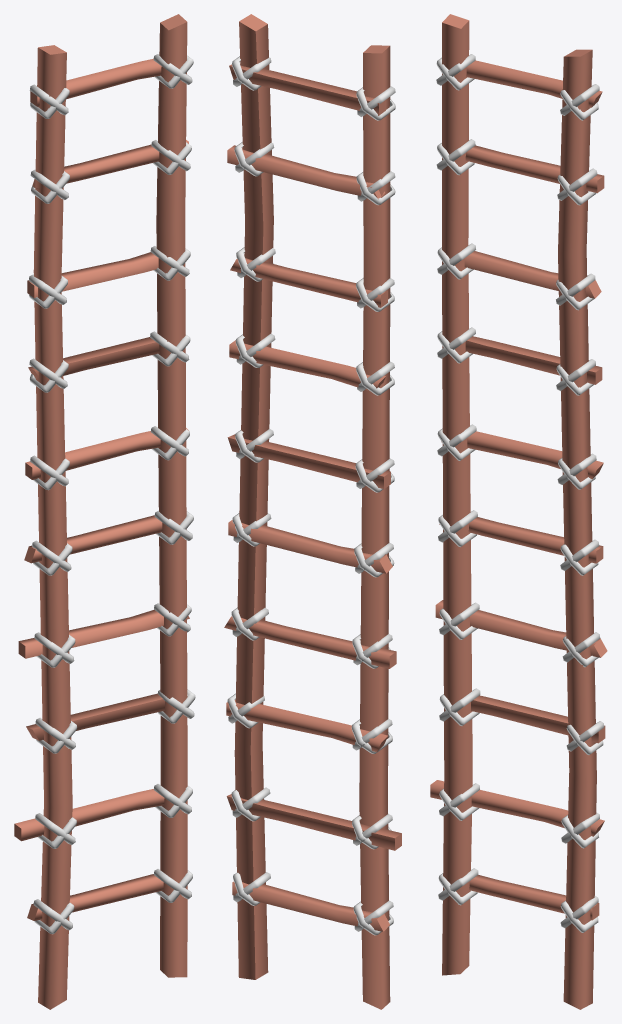
The model's file is ladder.fbx.
3 views of the same model, side by side, from view 1: azimuth 30°, elevation 25°; view 2: azimuth 150°, elevation 25°; view 3: azimuth 330°, elevation 25° (orthographic).
Visible parts, largest first — view 1: Cube.051, Cube.052; view 2: Cube.051, Cube.052; view 3: Cube.051, Cube.052.
Part boxes in pixels (left/top/right/bottom): Cube.051: left=14, top=14, right=189, bottom=1009; Cube.052: left=28, top=54, right=195, bottom=934; Cube.051: left=224, top=14, right=401, bottom=1009; Cube.052: left=227, top=56, right=395, bottom=935; Cube.051: left=430, top=14, right=607, bottom=1009; Cube.052: left=436, top=54, right=604, bottom=932.
Size of the model in its own units: 0.9339 by 5.03 by 0.222.
